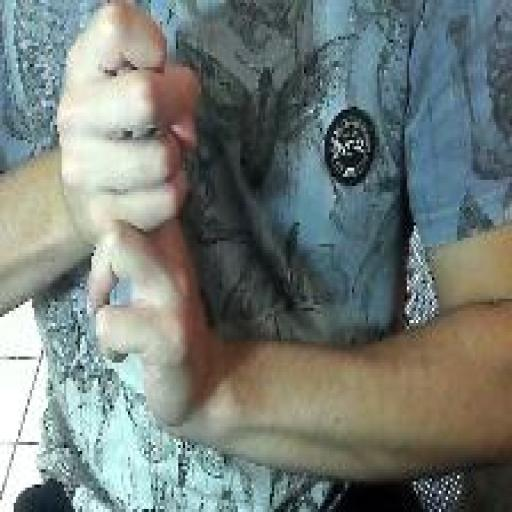Ne -rat-: (51, 0, 214, 454)
